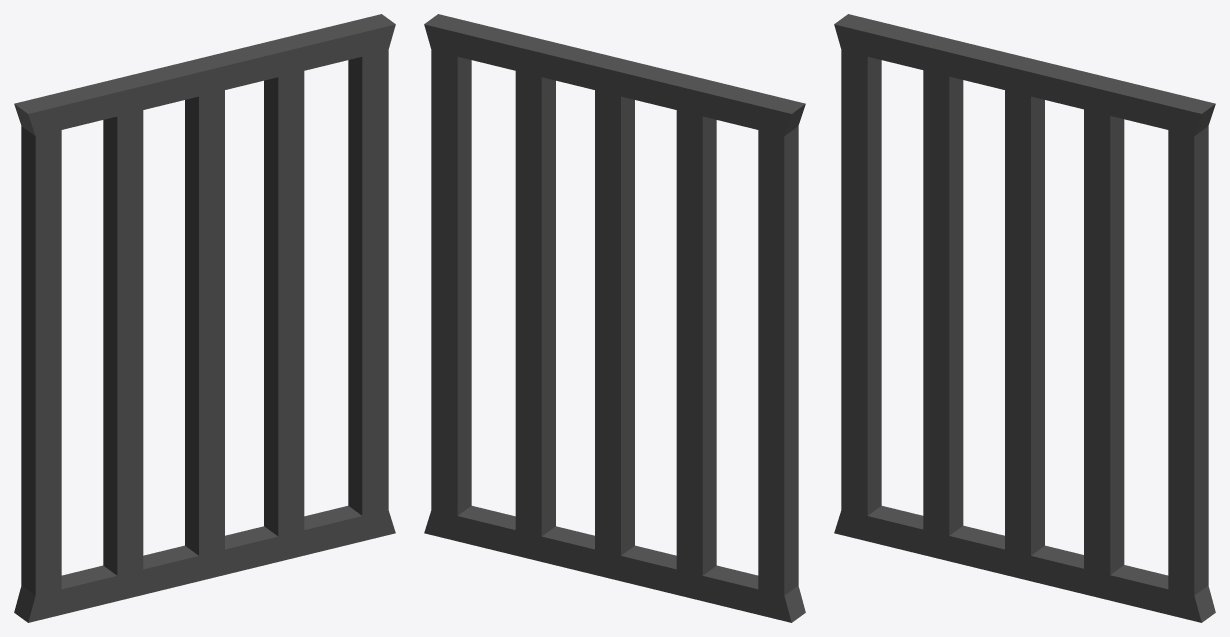
The model's file is Bars.glb.
3 views of the same model, side by side, from view 1: azimuth 30°, elevation 25°; view 2: azimuth 150°, elevation 25°; view 3: azimuth 330°, elevation 25° (orthographic).
Parts seen in each view (by area): view 1: CellBar; view 2: CellBar; view 3: CellBar.
Boxes of the visible parts, x1,y1,x2,y2 form: CellBar: (14, 14, 395, 622); CellBar: (424, 14, 805, 622); CellBar: (834, 14, 1215, 622).
Bounding box in the file's own units: 2.83 × 3.74 × 0.1882.
1 material, 1 textured.
